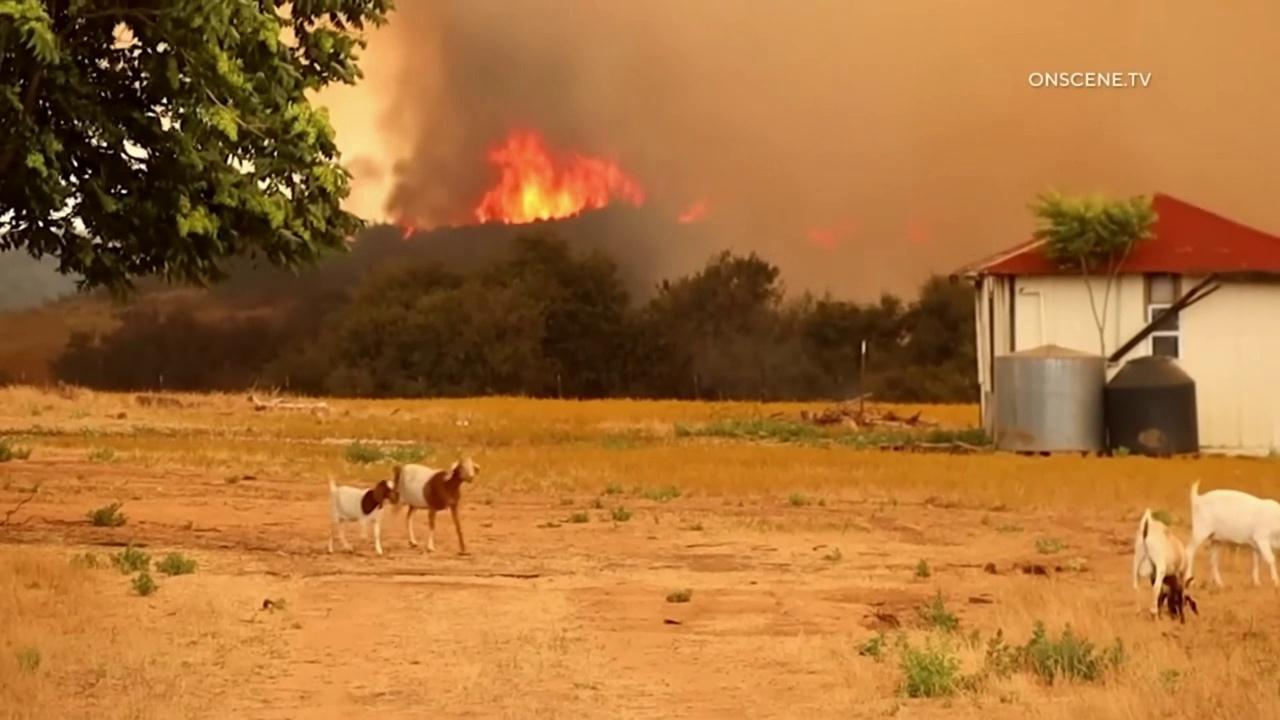fire: (472, 124, 647, 230), (807, 222, 838, 248), (904, 218, 930, 244), (678, 201, 706, 225), (401, 224, 415, 241)
smoke: (342, 0, 1280, 310)
